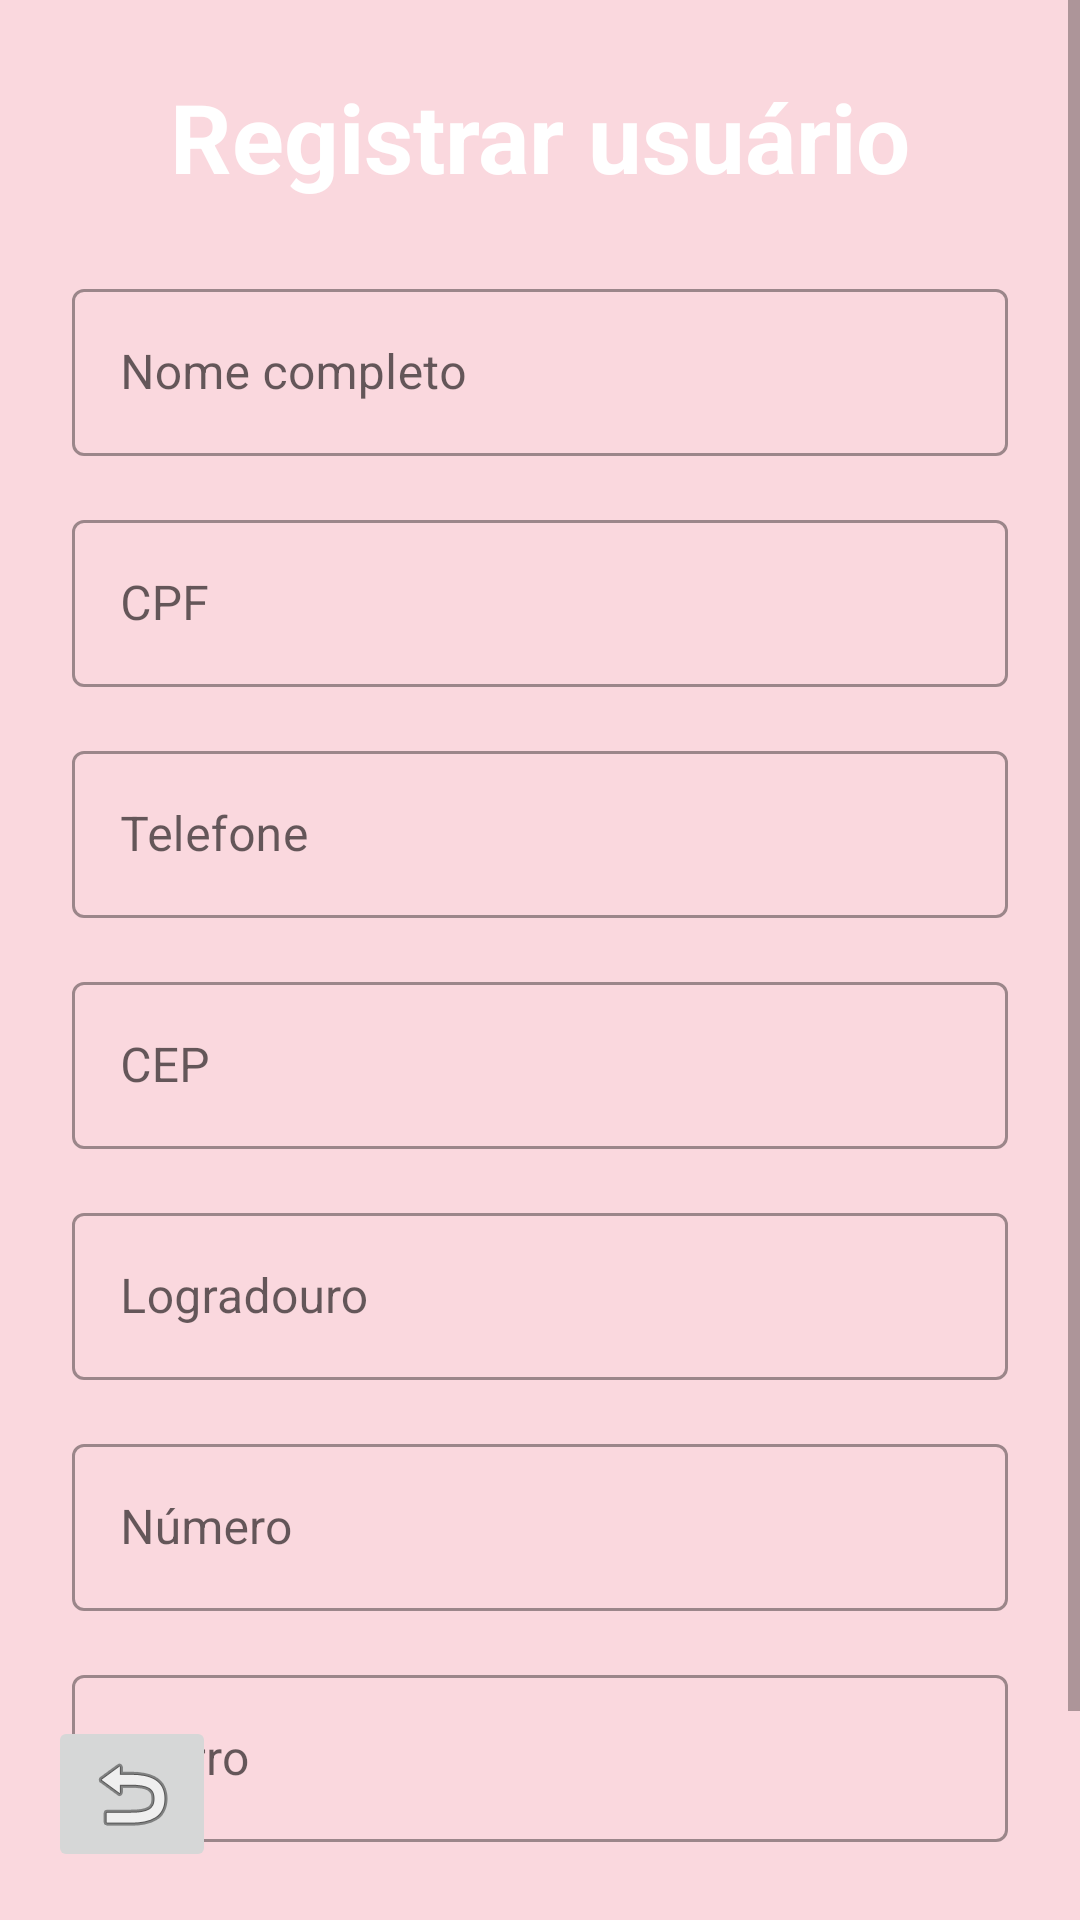

Icons on this 1080 x 1920 Android screen, each with the point to tap as (x,y):
revert: (138,1785)
